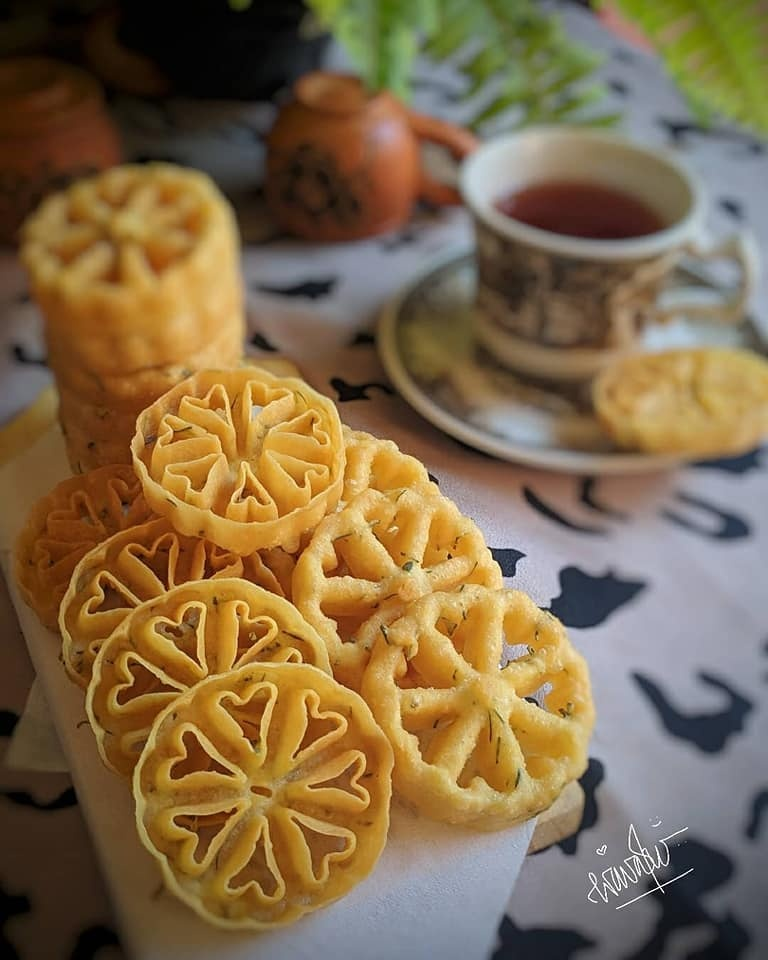kembang_goyang: (96, 666, 388, 937), (391, 596, 609, 832), (152, 340, 350, 537)
